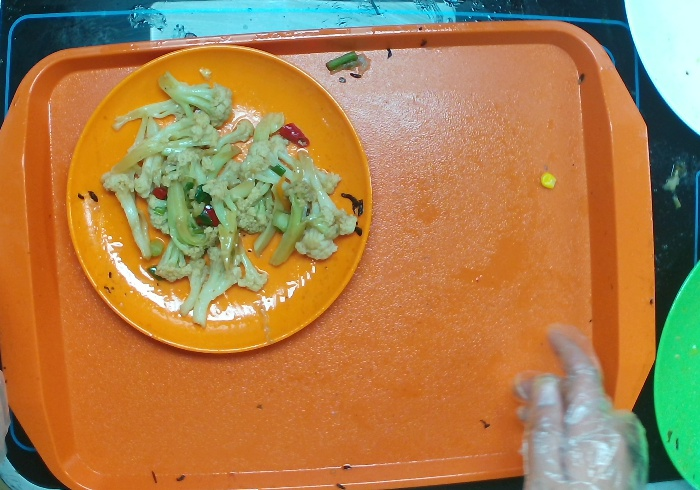HZYJPL-Ju_Huang_Yuan_Pan: (56, 38, 382, 368)
